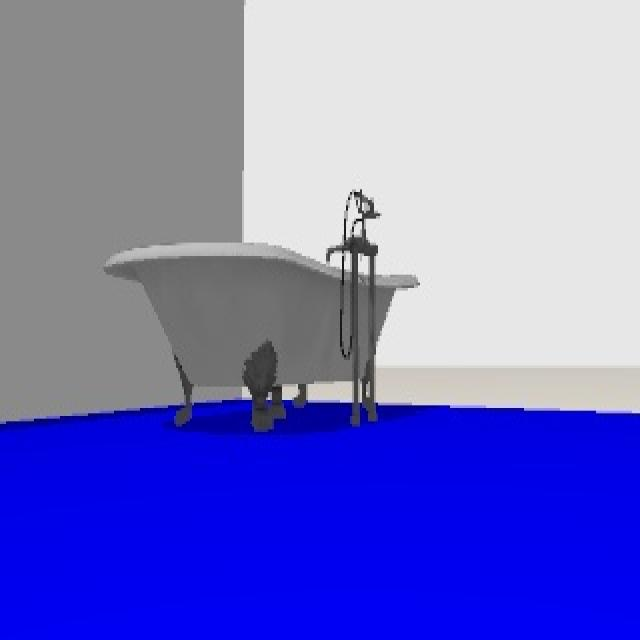bathtub: (107, 188, 423, 436)
